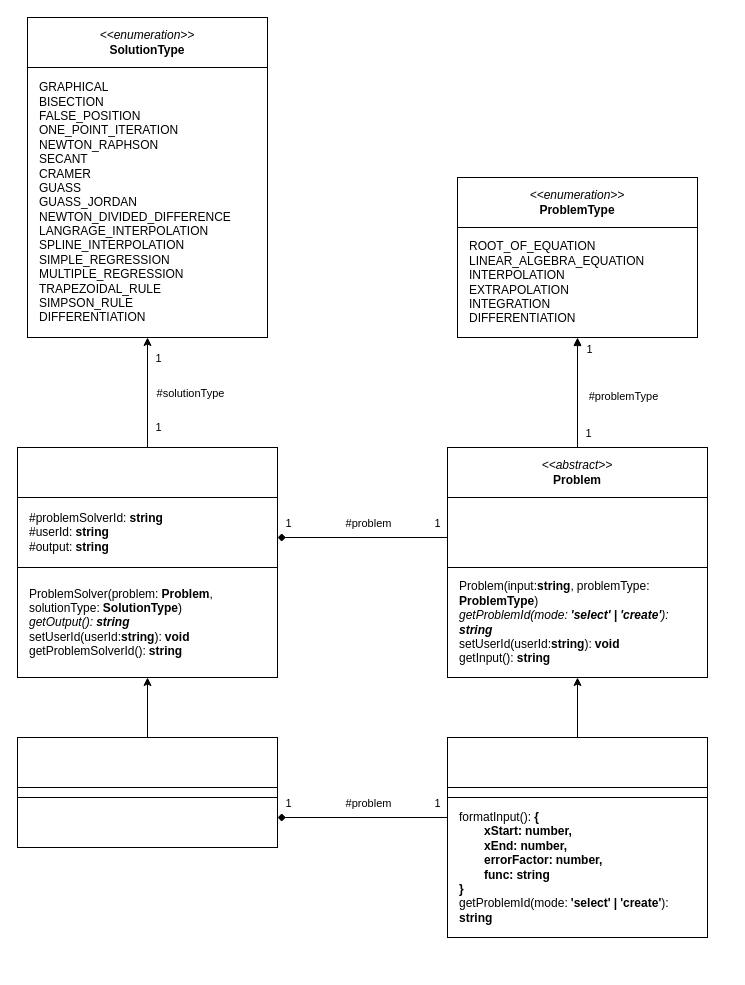
The diagram is 745 pixels wide and 985 high, and some of its shapes have lost their labels. Here are the shapes that lost their labels. From the top down, the centre of each, then its label:
At point 147,472: "<<abstract>> ProblemSolver".
At point 577,532: "#problemId: string #userId: string #input: string".
At point 147,762: "GraphicalMethodSolver".
At point 577,762: "RootOfEquationProblem".
At point 147,822: "getOutput(): string".
